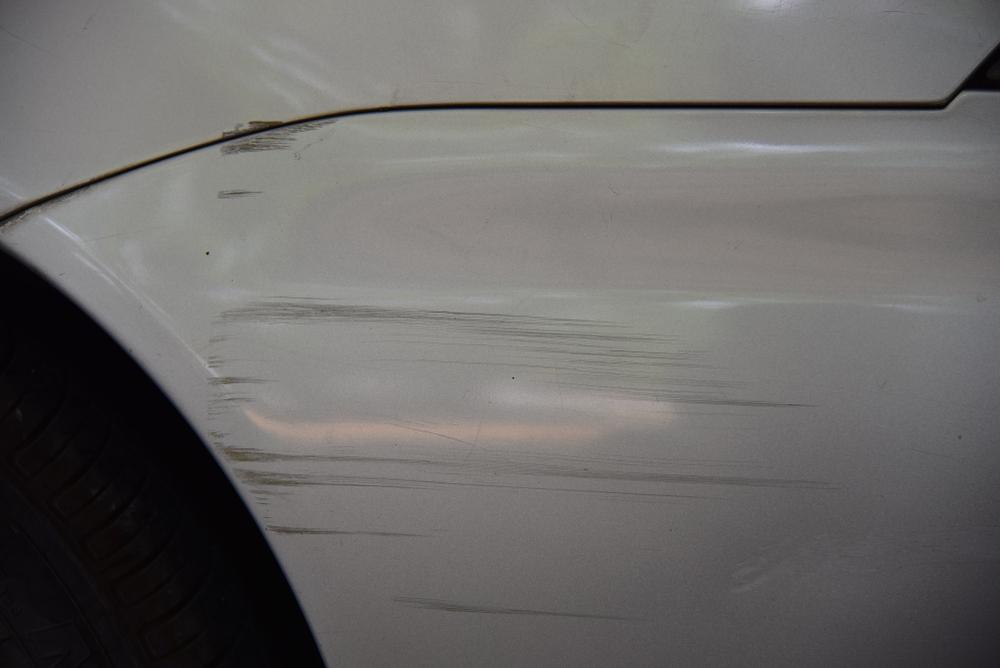scratch: (203, 117, 833, 633)
